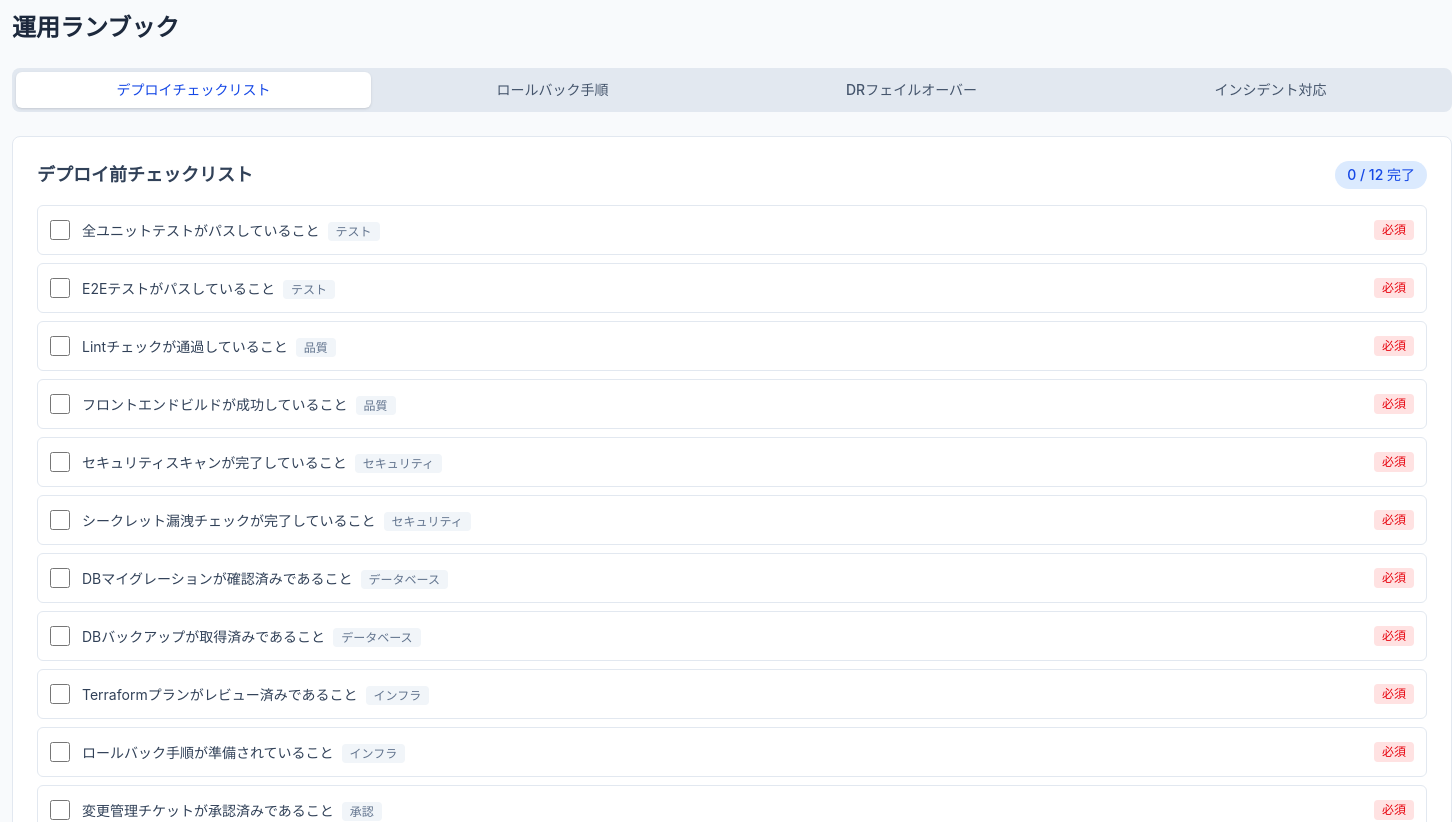
RunbookPage tab navigation › clicking 'DRフェイルオーバー' tab shows content with heading 'DRフェイルオーバー手順'
The width and height of the screenshot is (1452, 822).
Click the button "DRフェイルオーバー".
click(912, 90)  # box [734, 72, 1089, 108]
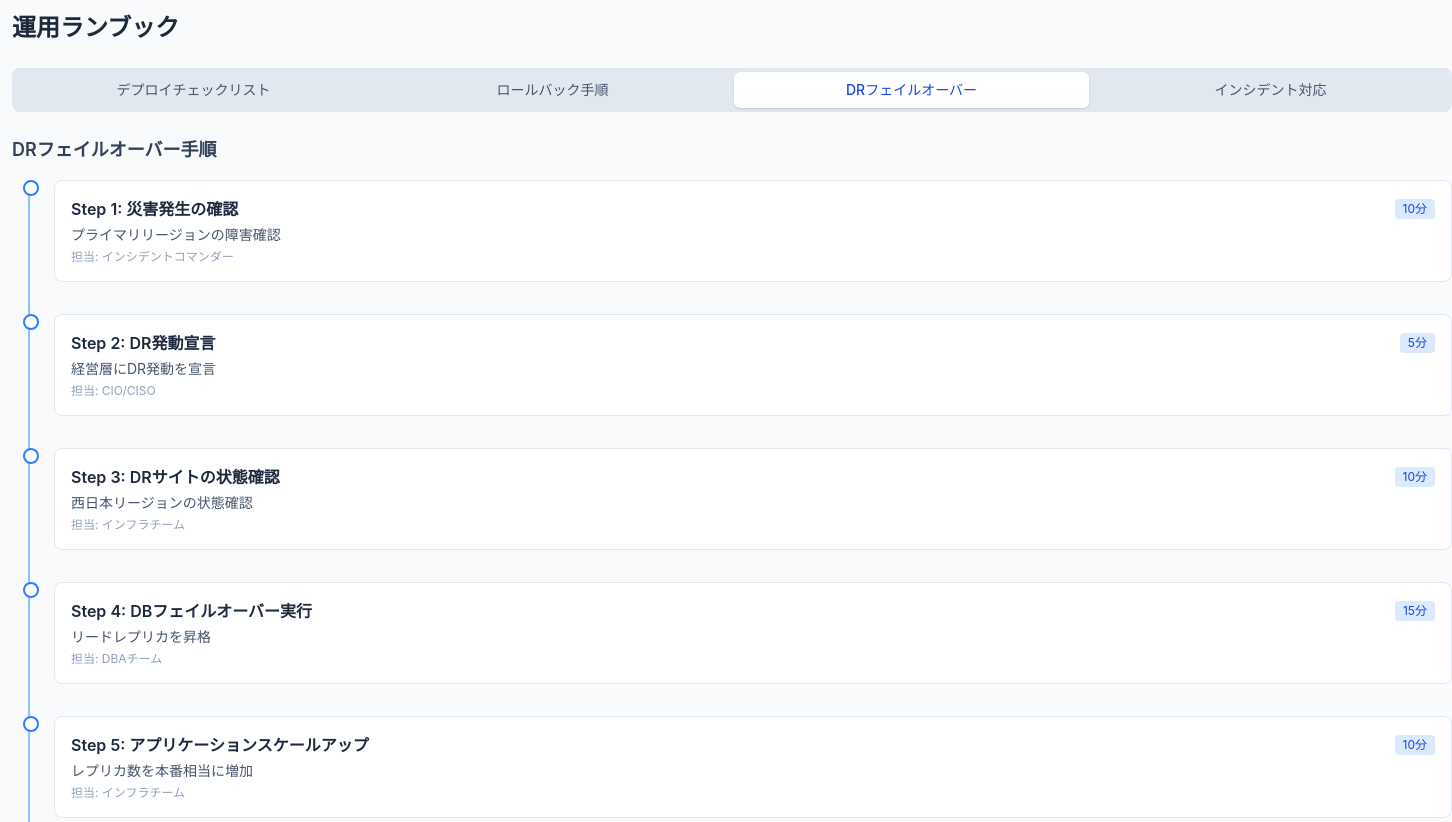
Now the heading "DRフェイルオーバー手順" is shown, box [12, 139, 217, 160]
